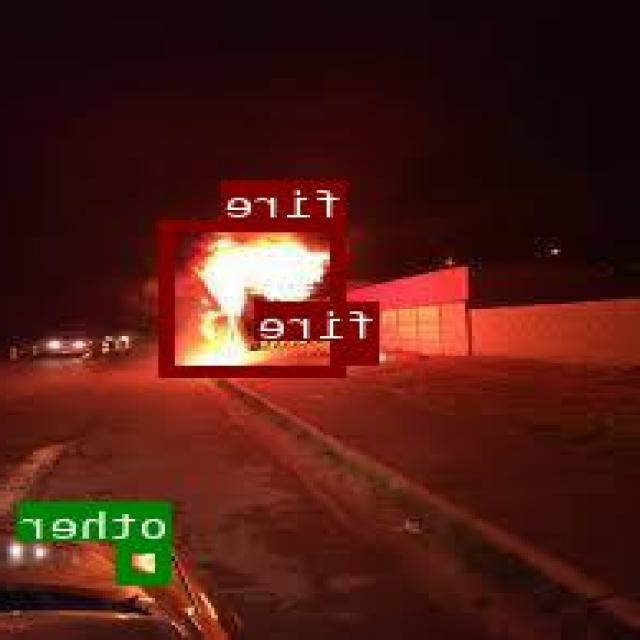fire: (164, 218, 350, 374), (341, 339, 382, 361)
other: (120, 540, 174, 582)
